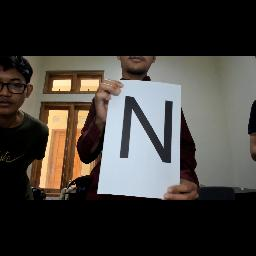n: (119, 94, 177, 170)
